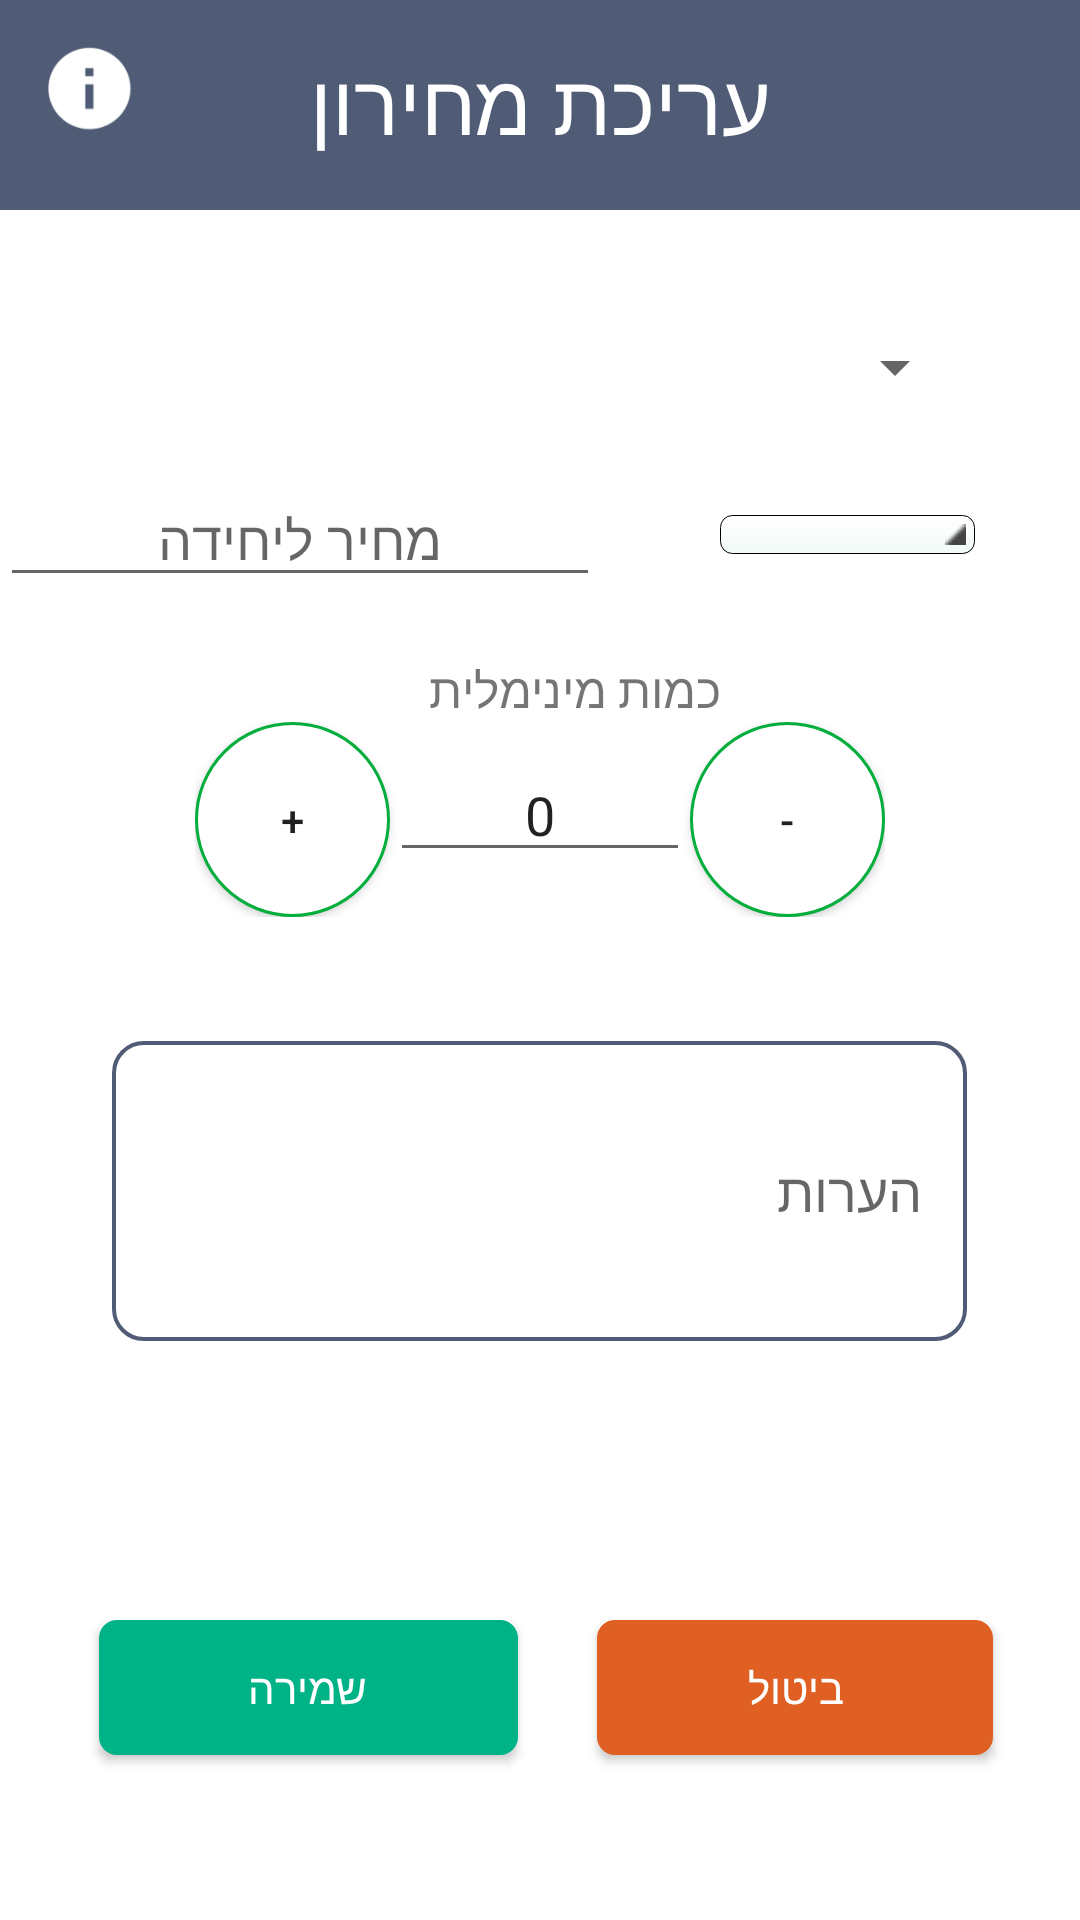

Icon click points for this 1080w x 1920h phone screenshot, format [x,y]:
infor: [89,88]
